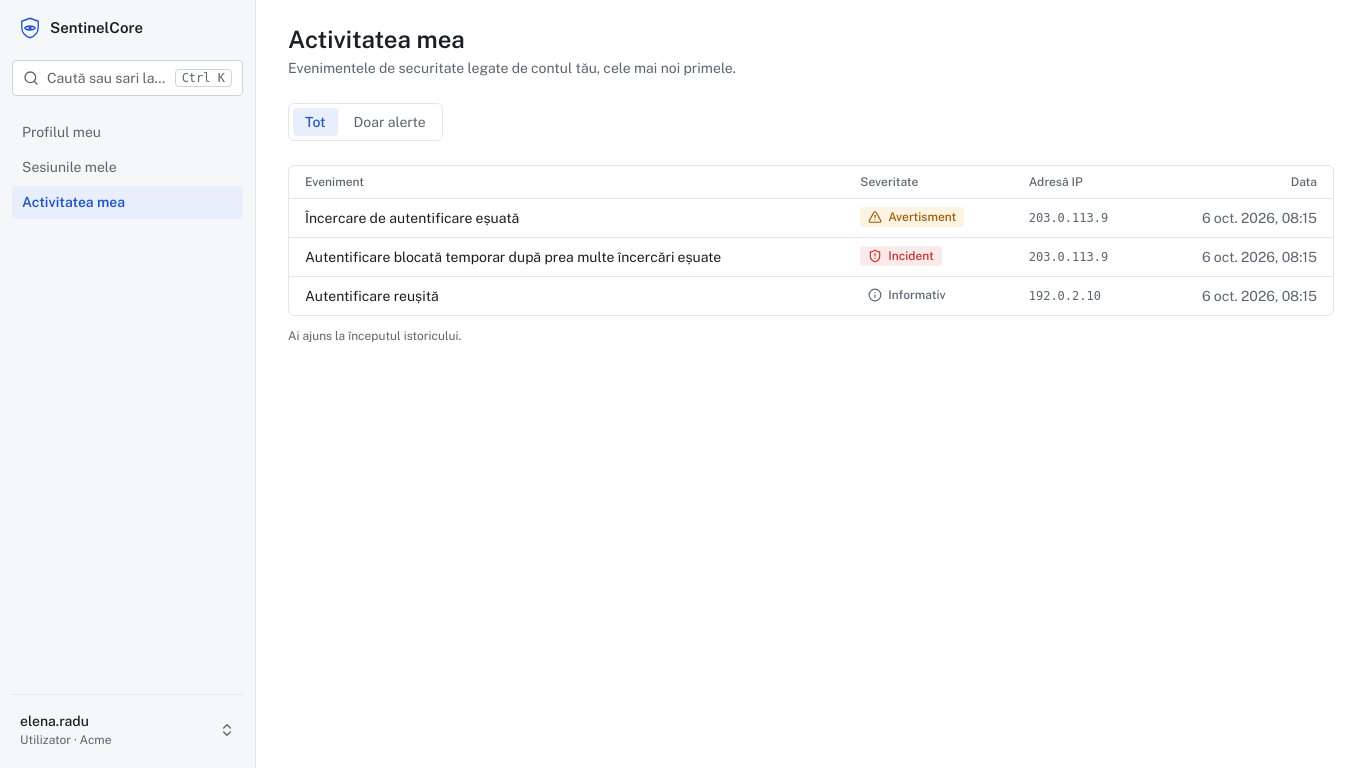
Test case: my activity page › shows only alerts when asked, and keeps the choice in the address
Expected: the table named "Evenimente" is shown, [289,166,1333,315]
Click the button "Doar alerte": (390, 122) [342,108,438,136]
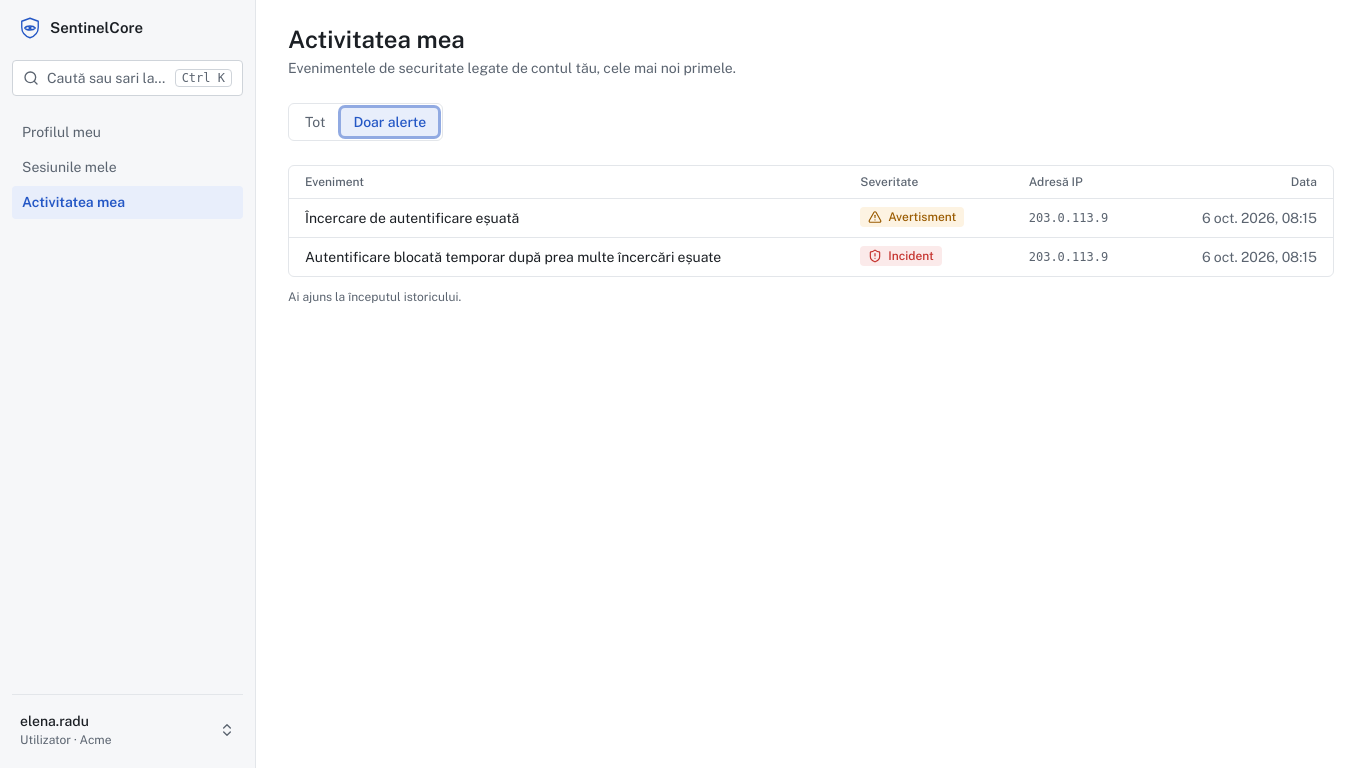
Result: the number of rows is 3 at [289,166,1333,198]; [289,198,1333,238]; [289,238,1333,276]
